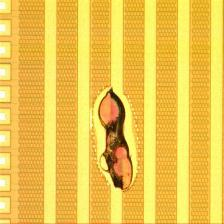BLOCK ETCH: (91, 85, 141, 193)
